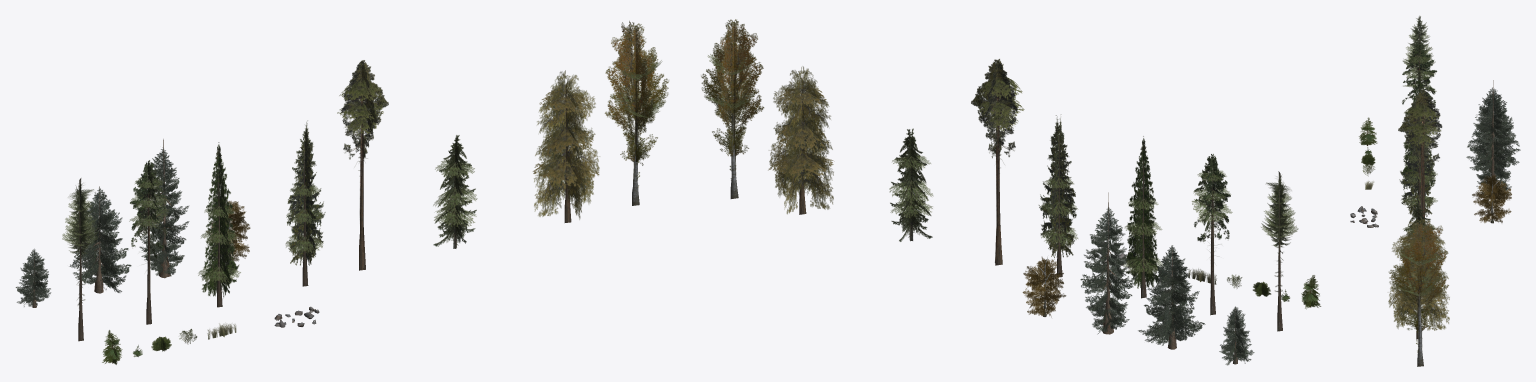
Rendered from trees.glb.
3 views of the same model, side by side, from view 1: azimuth 30°, elevation 25°; view 2: azimuth 150°, elevation 25°; view 3: azimuth 270°, elevation 25° (orthographic). The views are drawn at different scales.
Parts seen in each view (by area): view 1: RPG_TreePack; view 2: RPG_TreePack; view 3: RPG_TreePack.
Boxes of the visible parts, x1=… form: RPG_TreePack: x1=15, y1=21, x2=668, y2=364; RPG_TreePack: x1=701, y1=19, x2=1320, y2=365; RPG_TreePack: x1=1350, y1=16, x2=1520, y2=366.
Size of the model in its own units: 5 by 1.64 by 1.5.
Materials: 7 (7 with a texture image).
